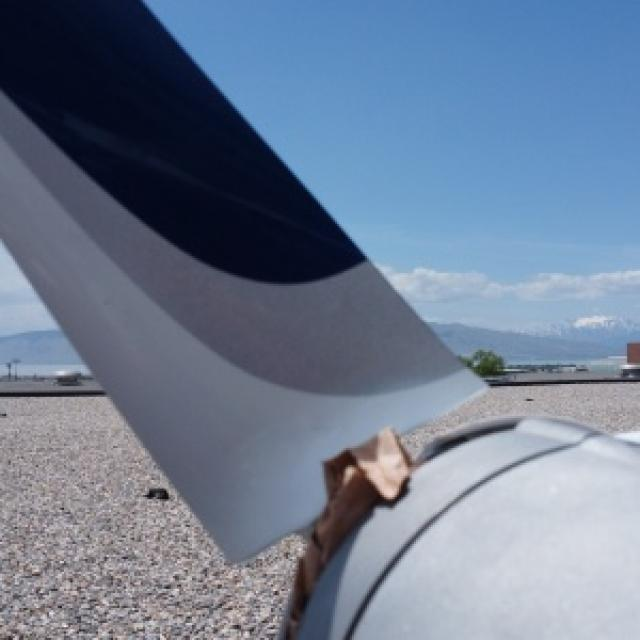healthy: (294, 422, 634, 638)
